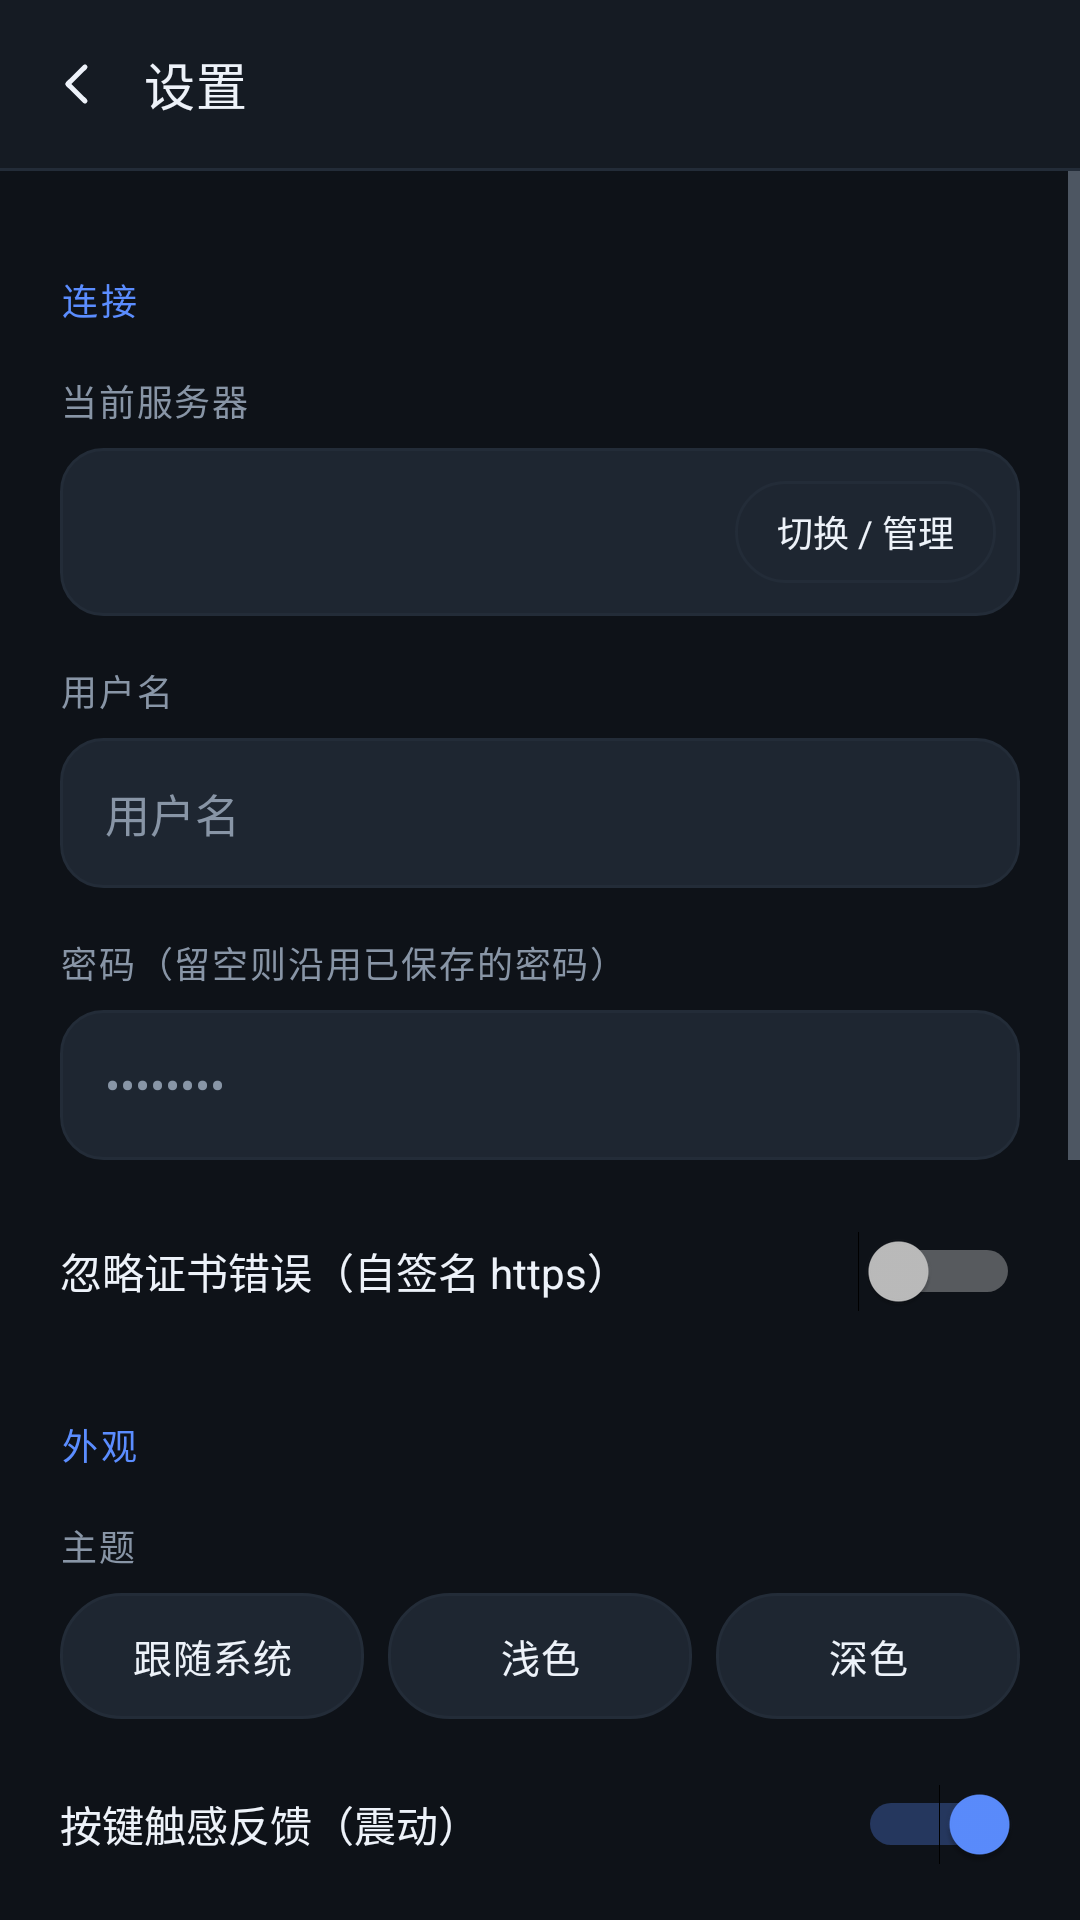

Icon bounding boxes for this 1080 × 1920 phone screenshot, format [left=x1, top=y1, right=x2, bottom=y2]:
返回: [left=65, top=64, right=88, bottom=104]
